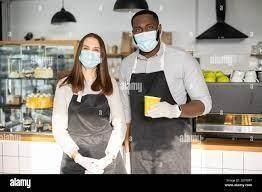apron: (148, 102, 180, 123), (94, 152, 118, 174), (72, 152, 94, 173)
mask: (132, 26, 160, 55), (78, 44, 104, 68)
no_gloves: (128, 8, 163, 30), (77, 32, 109, 52)
